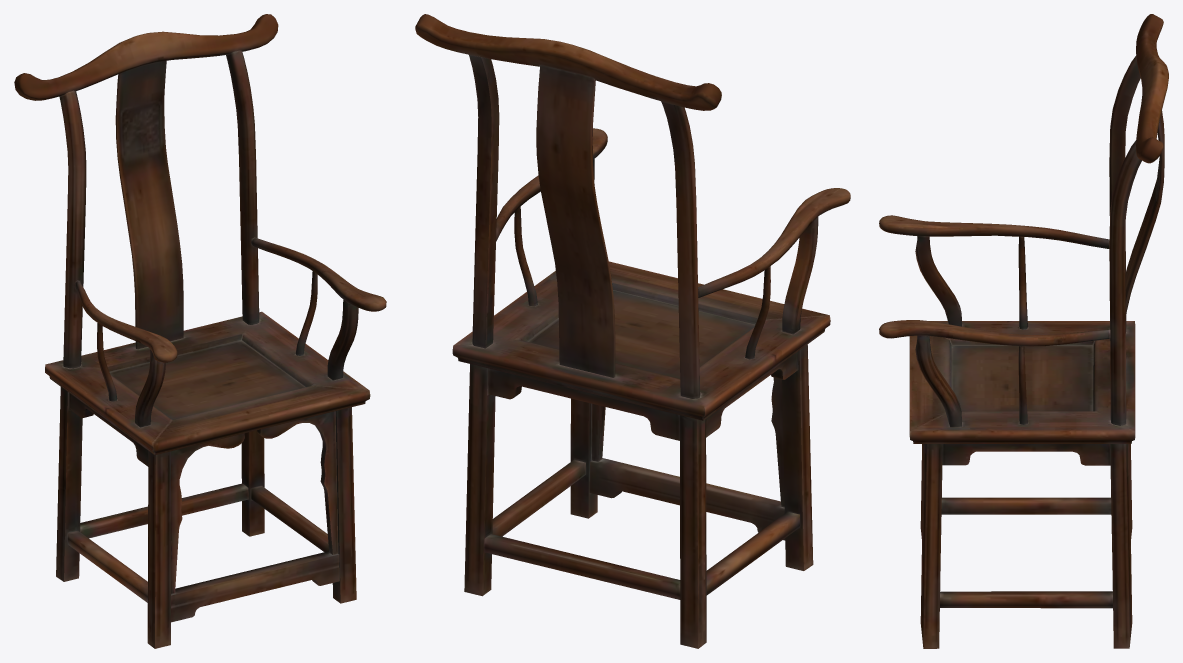
The model's file is chinese-armchair.glb.
3 renders of one model, left to right at view 1: azimuth 30°, elevation 25°; view 2: azimuth 150°, elevation 25°; view 3: azimuth 270°, elevation 25°, orthographic. The views are drawn at different scales.
Visible parts, largest first — view 1: chinese_armchair; view 2: chinese_armchair; view 3: chinese_armchair.
Part boxes in pixels (x1,y1,x2,y2): chinese_armchair: [14, 14, 386, 648]; chinese_armchair: [415, 14, 850, 648]; chinese_armchair: [879, 14, 1168, 648].
Bounding box in the file's own units: 0.8483 × 1.59 × 0.7886.
Materials: 1 (1 with a texture image).
